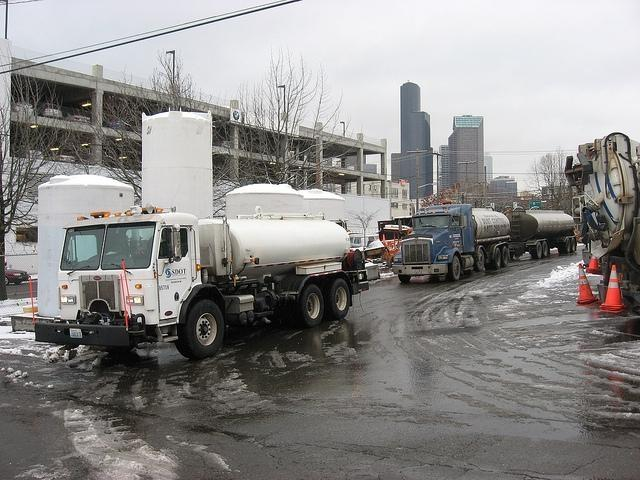car: (4, 266, 28, 286), (349, 233, 376, 248)
truck: (32, 206, 372, 358), (564, 132, 640, 318), (391, 204, 512, 283), (504, 206, 580, 262)
